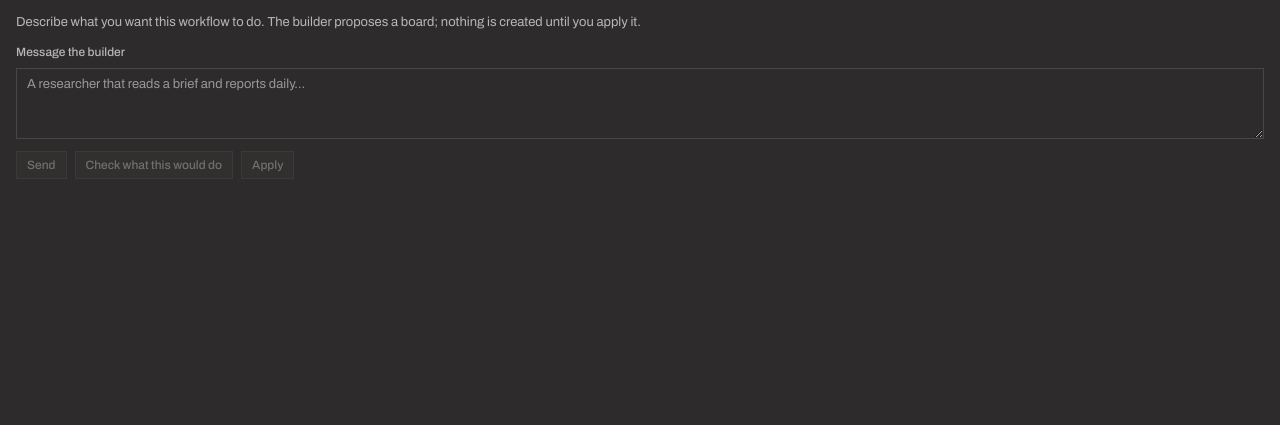
Test case: BuilderPanel — plan, confirm, then apply › renders a 207 as PARTLY applied, naming the failed wire, not as an error
Type "a researcher" into the text box with test id "builder-input".
click(640, 104); type("a researcher")  # box [16, 68, 1264, 139]
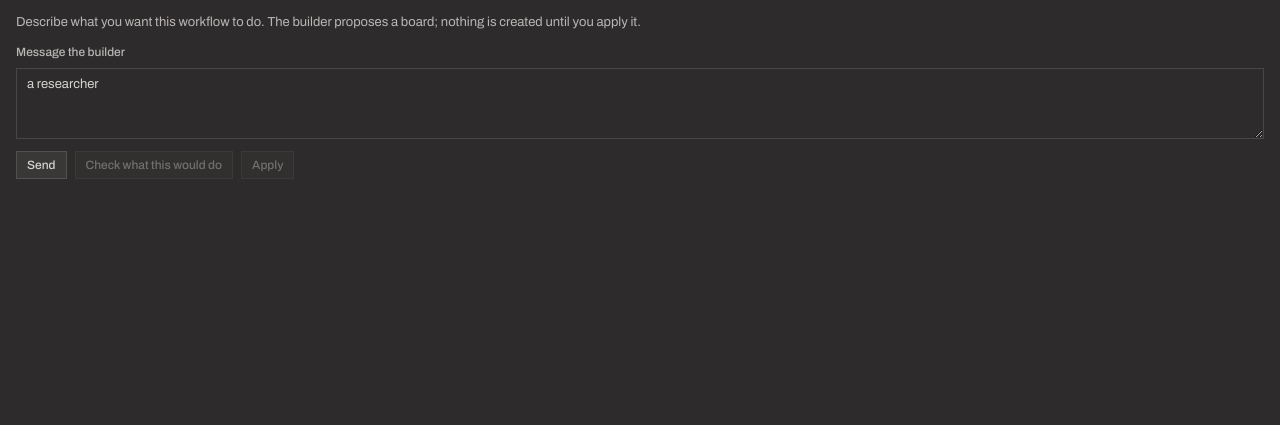
Click the button with test id "btn-builder-send".
click(41, 165)  # box [16, 151, 66, 179]
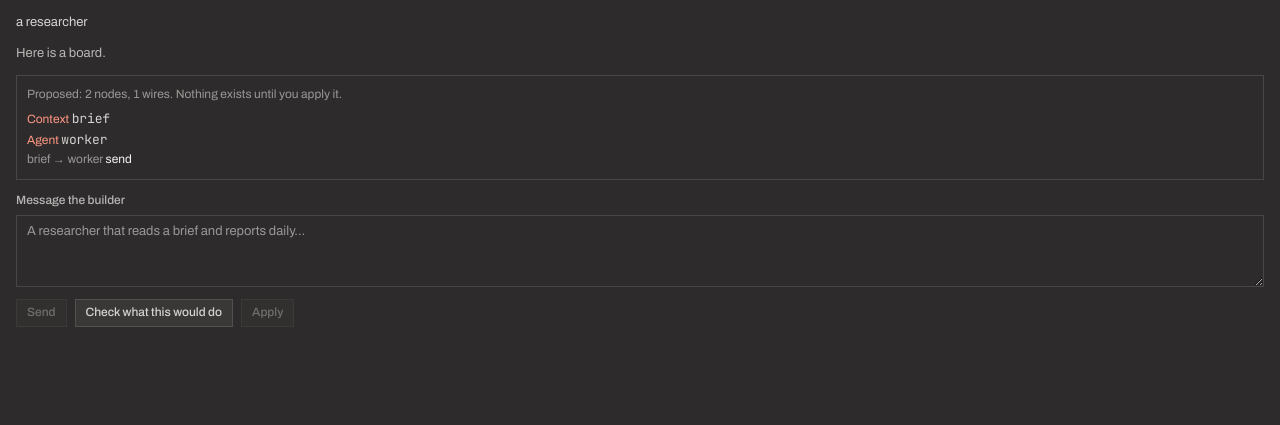
Now the element with test id "builder-preview" is shown, box [16, 75, 1264, 180]
Click the button with test id "btn-builder-preview".
click(154, 313)  # box [74, 299, 233, 327]
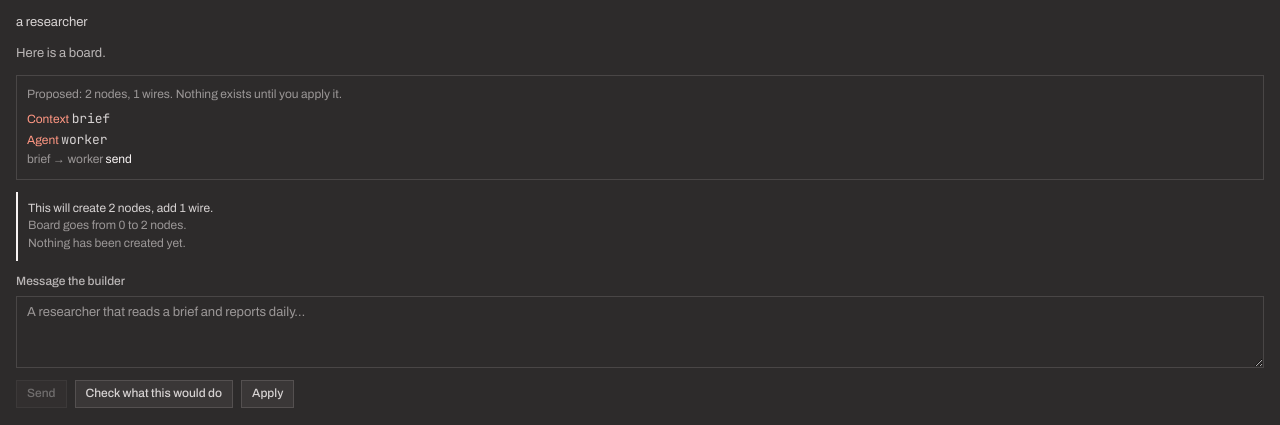
Now the element with test id "builder-plan" is shown, box [16, 192, 1264, 261]
Click the button with test id "btn-builder-apply".
click(268, 394)  # box [241, 380, 294, 408]
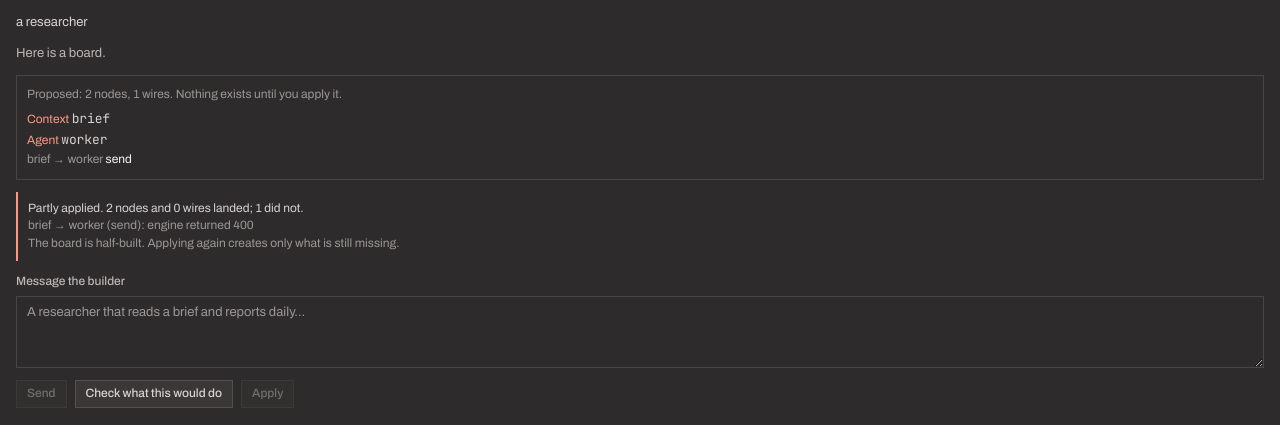
Now the element with test id "builder-partial" is shown, box [16, 192, 1264, 261]
Now the element with test id "builder-partial" shows "Partly applied", box [28, 201, 304, 215]
Now the element with test id "builder-partial" shows "brief → worker (send)", box [28, 218, 141, 232]
